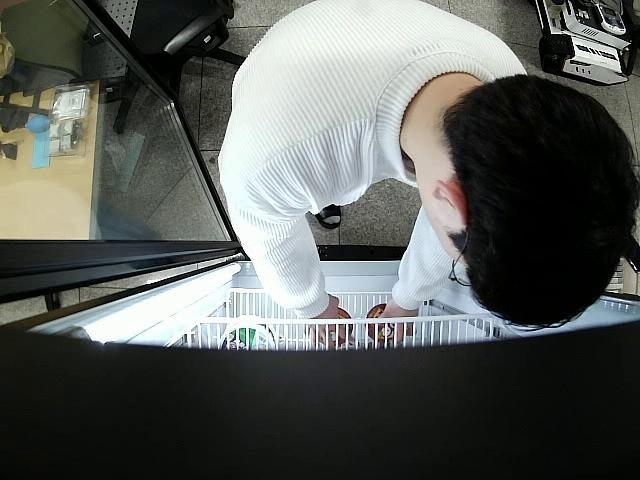06_nuguri_S: (320, 306, 353, 343), (367, 303, 398, 340)
